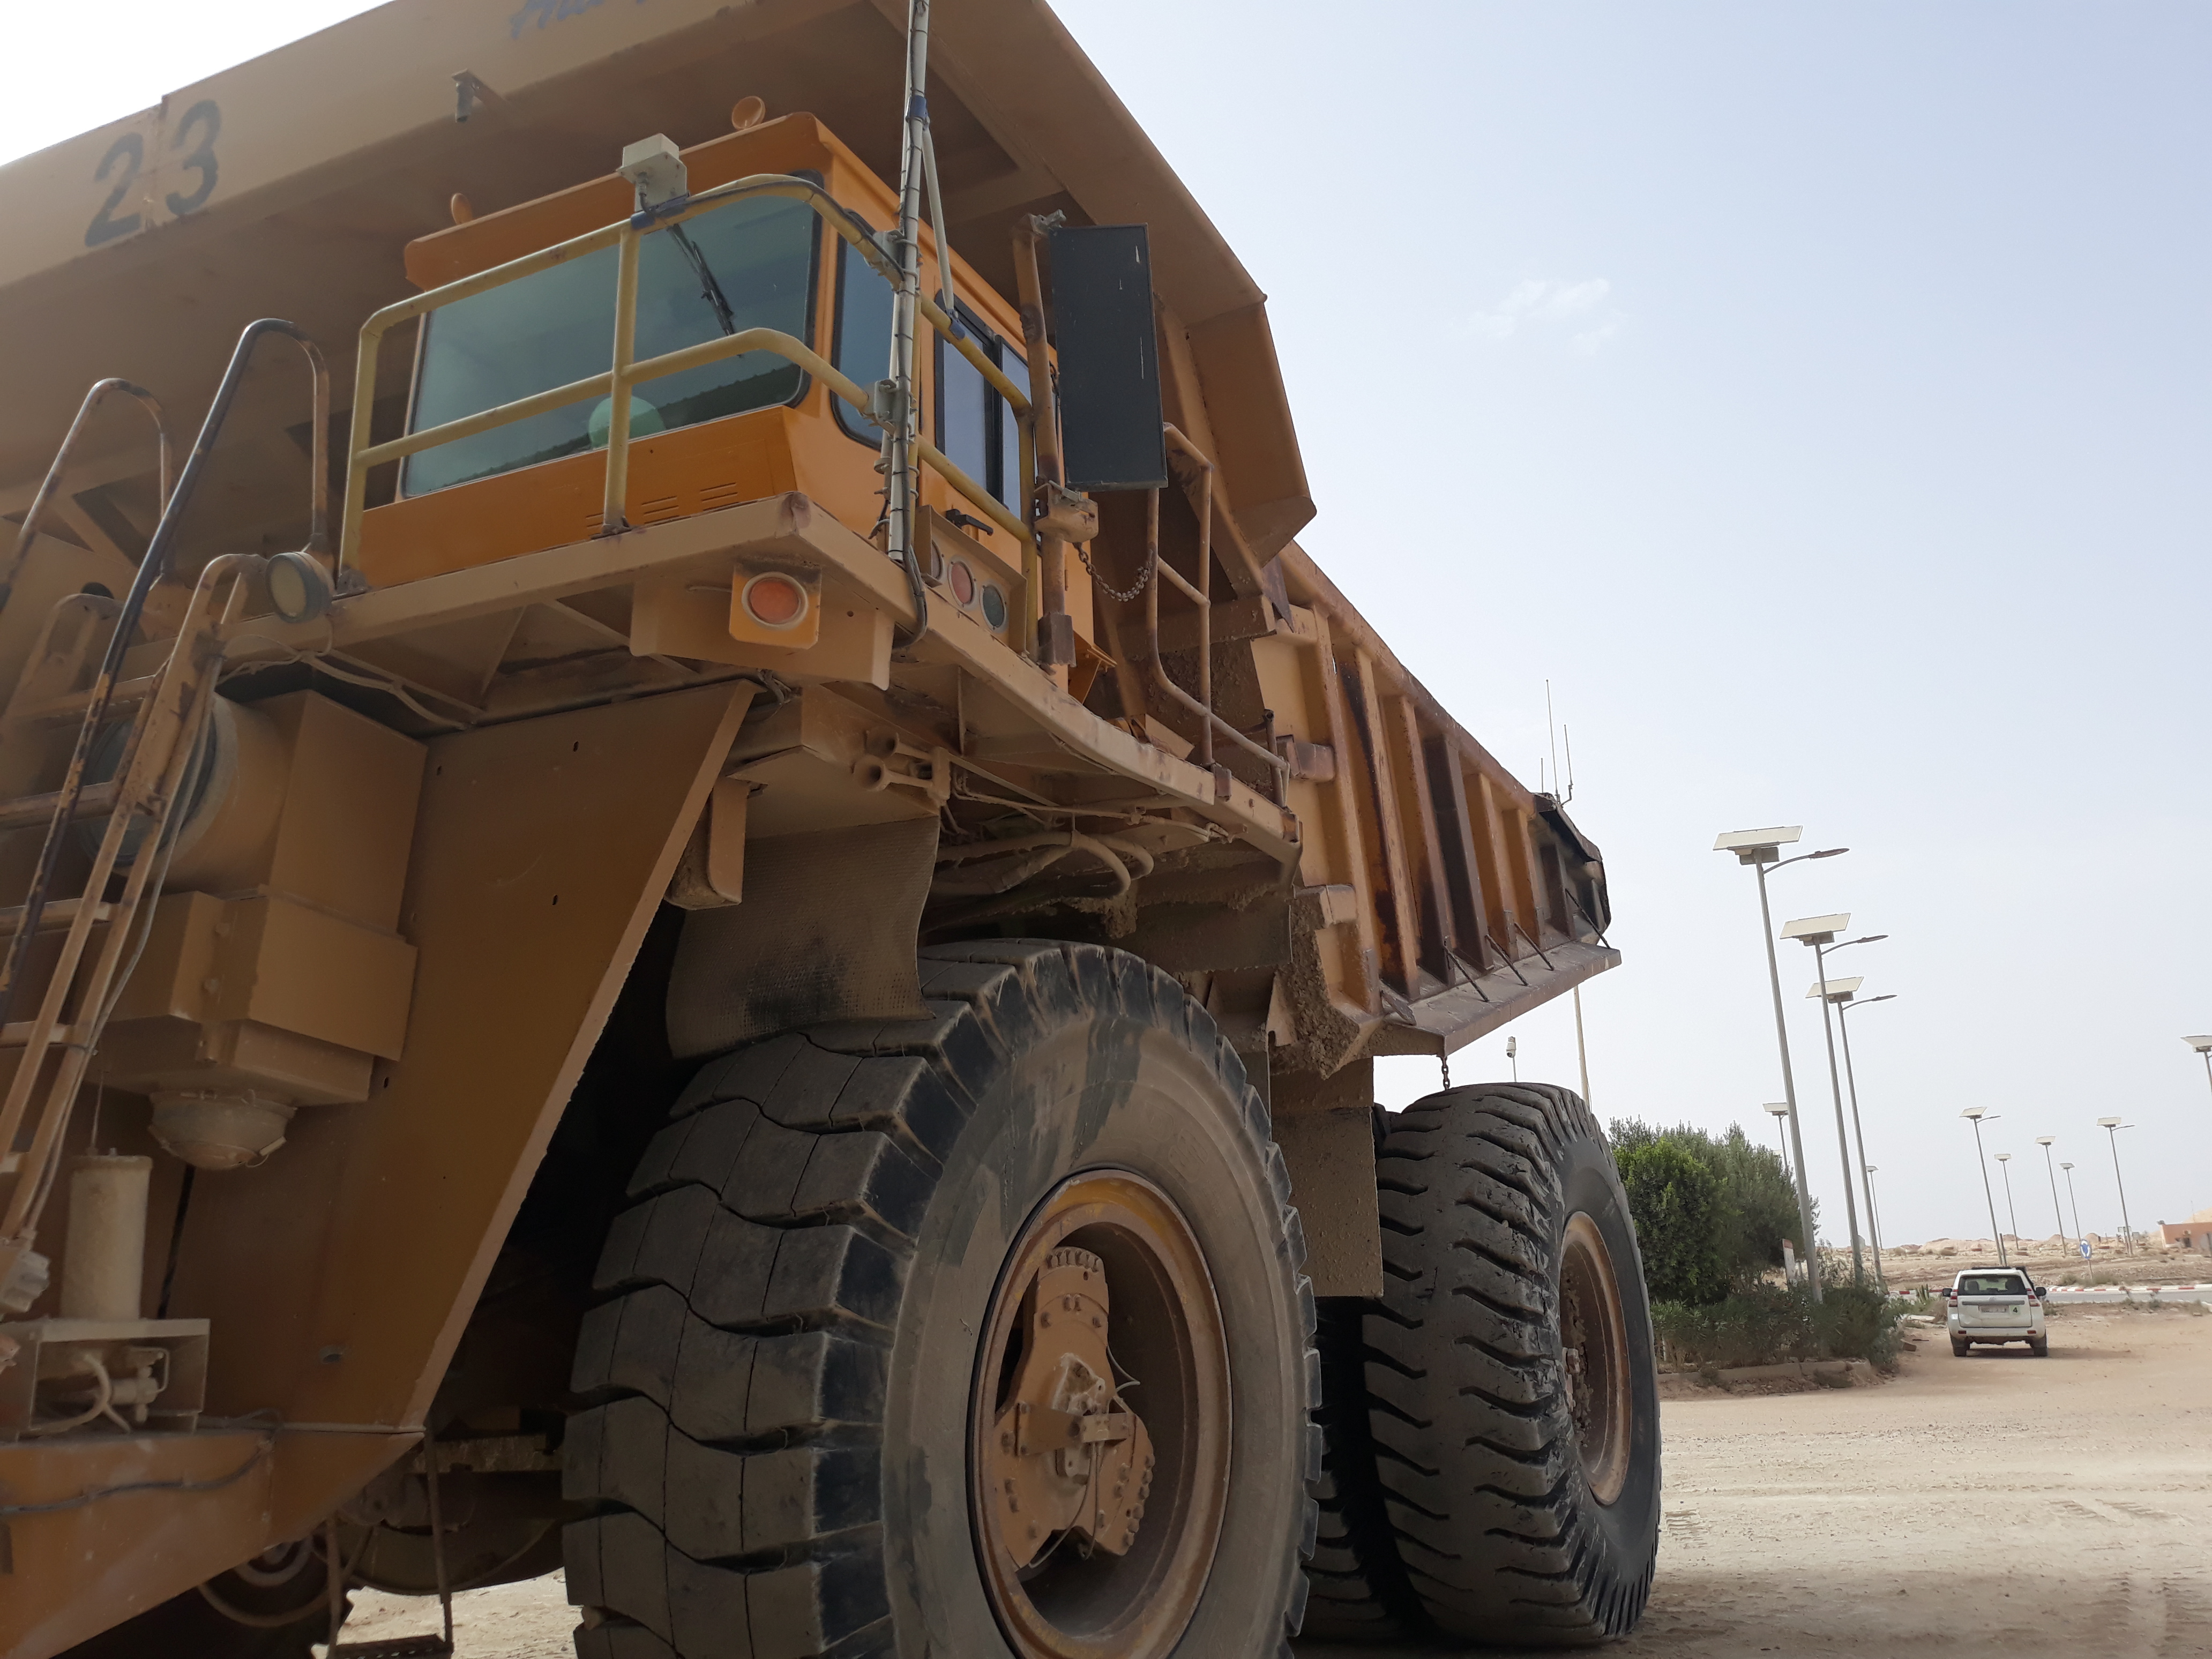camion: (7, 17, 1665, 1659)
car: (1916, 1232, 2085, 1387)
